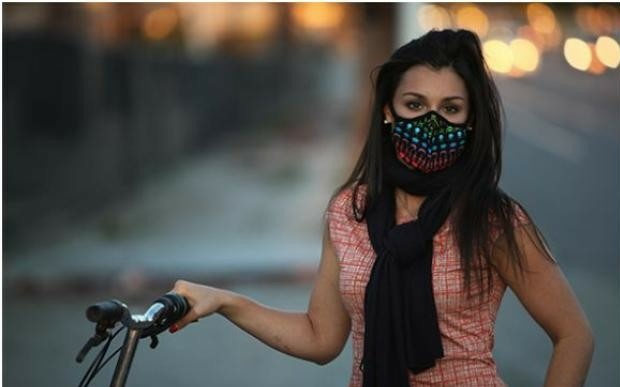with_mask: (375, 54, 483, 174)
